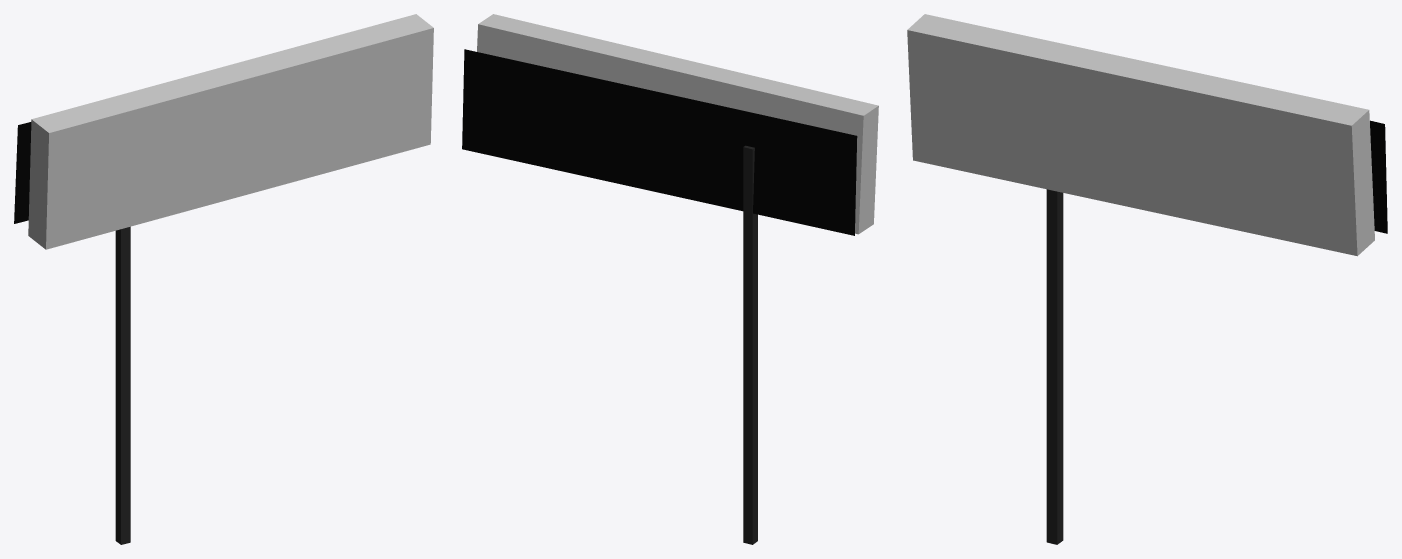
File: s230Sign - copia.obj
The picture shows the model from 3 angles, left to right: view 1: azimuth 30°, elevation 25°; view 2: azimuth 150°, elevation 25°; view 3: azimuth 330°, elevation 25°; orthographic projection. The views are drawn at different scales.
Parts seen in each view (by area): view 1: Cube.002, Cube.001, Plane; view 2: Plane, Cube.002, Cube.001; view 3: Cube.002, Cube.001, Plane.
Part boxes in pixels (box(x1,y1,x2,y2)): Cube.002: box(28, 14, 433, 249); Cube.001: box(115, 226, 130, 544); Plane: box(14, 122, 31, 223); Plane: box(462, 49, 857, 235); Cube.002: box(477, 14, 878, 234); Cube.001: box(743, 145, 757, 544); Cube.002: box(907, 14, 1374, 256); Cube.001: box(1046, 189, 1063, 544); Plane: box(1370, 120, 1387, 233).
Bounding box in the file's own units: 8.18 × 9.02 × 1.32.
